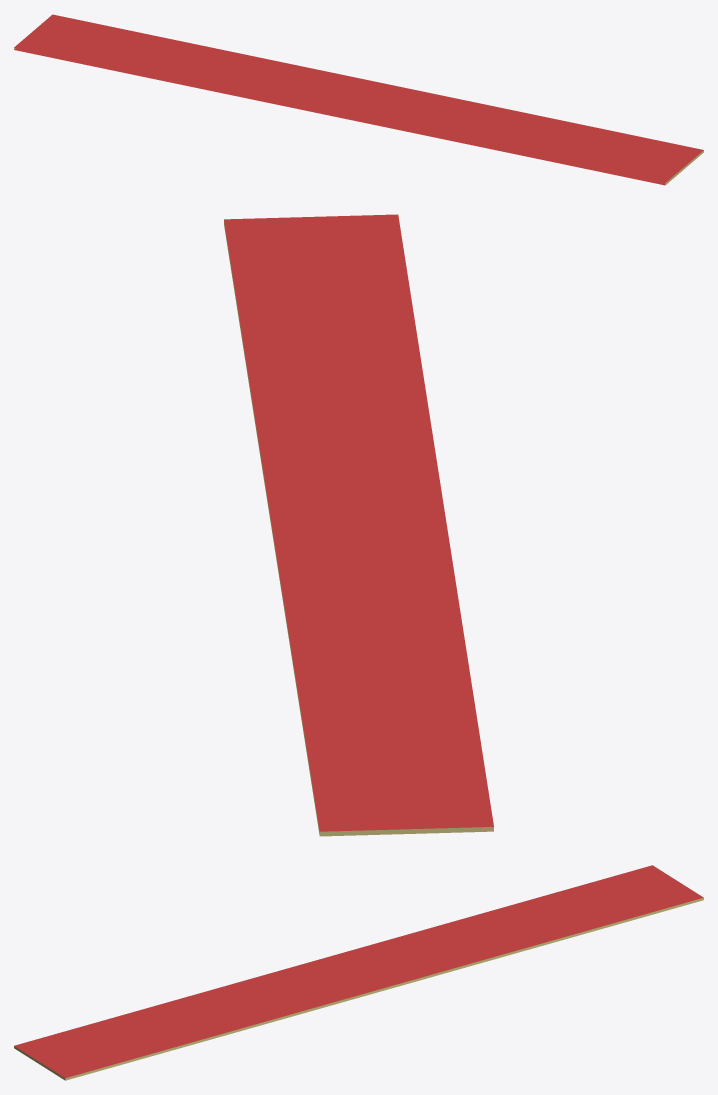
3 renders of one model, top to bottom at view 1: azimuth 30°, elevation 25°; view 2: azimuth 150°, elevation 25°; view 3: azimuth 270°, elevation 25°, orthographic. The views are drawn at different scales.
Size of the model in its own units: 18.14 by 24.83 by 0.1.
